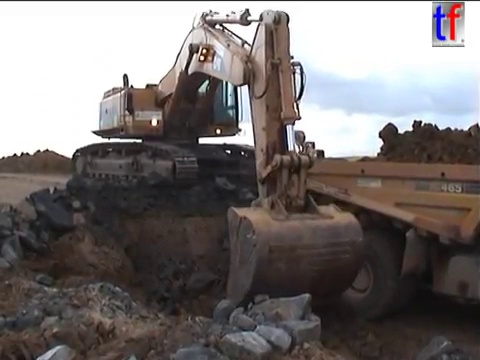bulldozer: (68, 5, 368, 316)
truck: (279, 154, 480, 323)
wheel loader: (288, 129, 327, 169)
